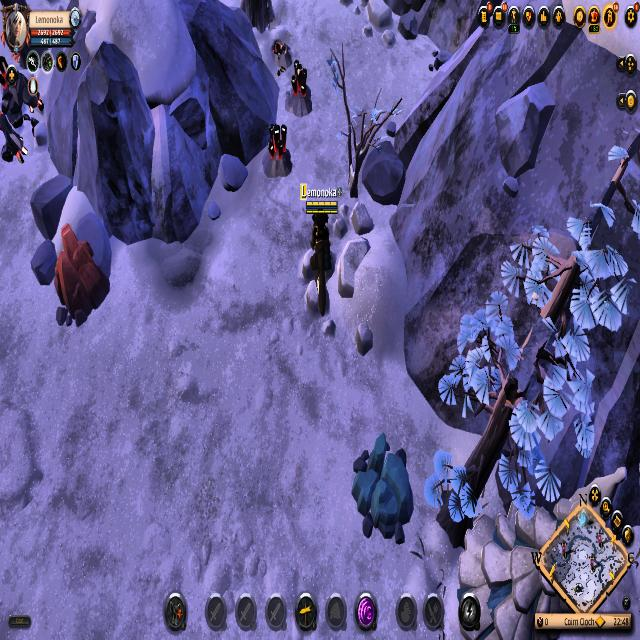ore tier 5: (261, 117, 295, 181), (286, 58, 317, 122)
rock tier 4: (352, 436, 416, 544)
rock tier 5: (51, 220, 114, 333)
